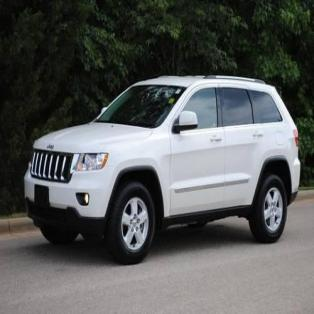Auto: (23, 75, 303, 264)
